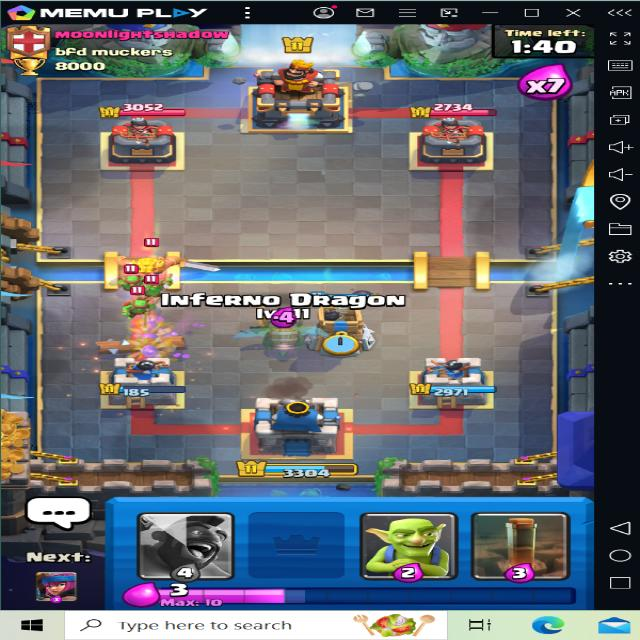Goldenknight: (120, 237, 202, 283)
Goldenknightability: (116, 242, 192, 288)
Speargoblin: (116, 264, 148, 290), (118, 295, 154, 315), (144, 274, 174, 296)
